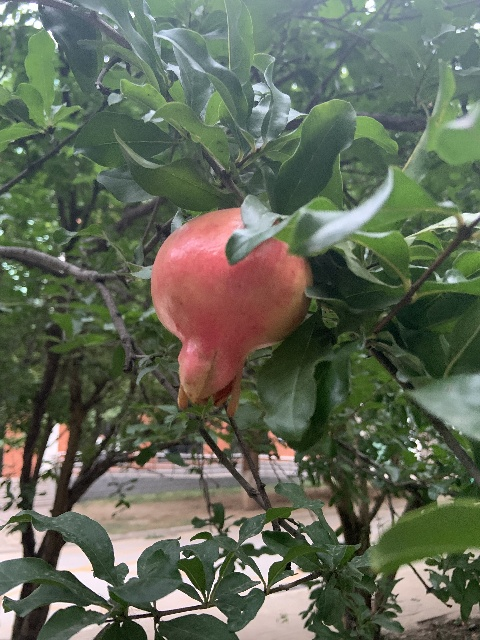ripe: (150, 206, 311, 416)
